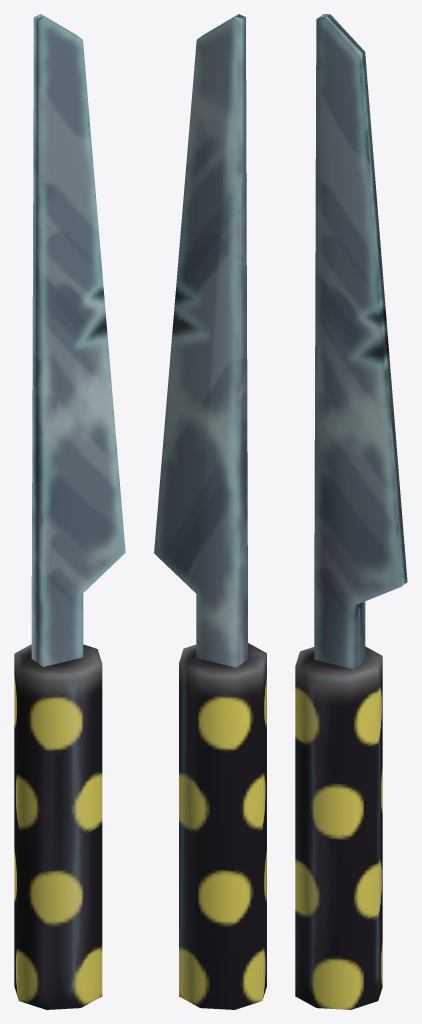
File: Knife.fbx
The picture shows the model from 3 angles, left to right: view 1: azimuth 30°, elevation 25°; view 2: azimuth 150°, elevation 25°; view 3: azimuth 330°, elevation 25°; orthographic projection.
Visible parts, largest first — view 1: knife; view 2: knife; view 3: knife.
Boxes of the visible parts, x1,y1,x2,y2 form: knife: (14, 14, 125, 1009); knife: (154, 14, 266, 1009); knife: (295, 14, 407, 1009).
Size of the model in its own units: 2.7 by 24.21 by 2.04.
